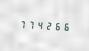four: (36, 19, 44, 30)
seven: (17, 18, 25, 30), (26, 19, 34, 30)
six: (63, 20, 71, 32), (54, 20, 62, 31)
two: (45, 20, 53, 31)
